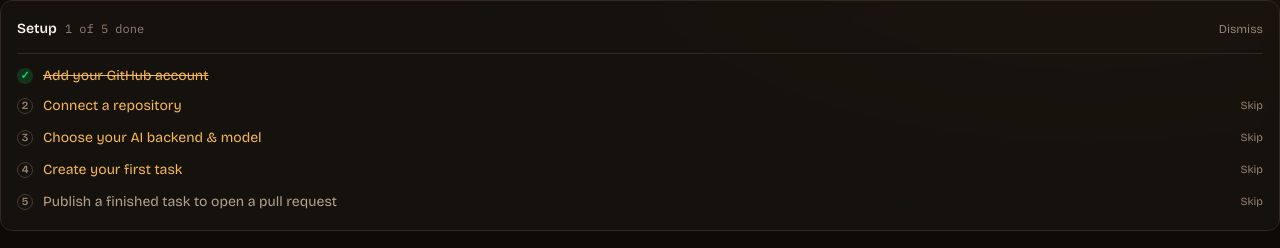
Test case: OnboardingChecklist › skip marks a step done and persists to localStorage
The image size is (1280, 248).
Expected: the text "1 of 5 done" is shown, left=65, top=21, right=144, bottom=37
Click the button with aria-label "Skip Connect a repository (mark done)".
click(1252, 106)  # box left=1240, top=94, right=1263, bottom=118
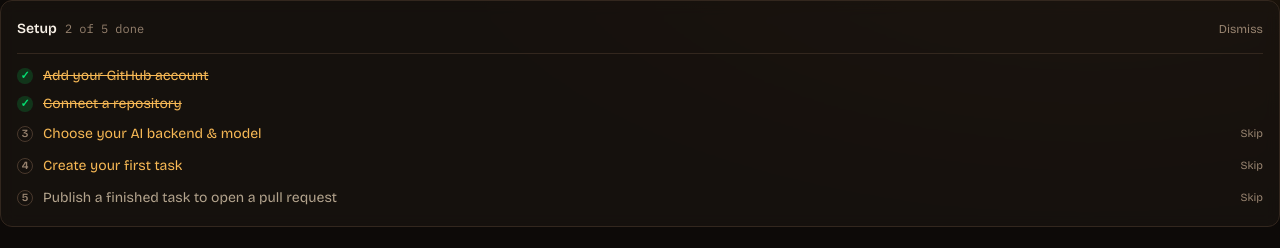
Expected: the heading "Setup" is shown, left=17, top=19, right=57, bottom=39
Expected: the text "2 of 5 done" is shown, left=65, top=21, right=144, bottom=37
